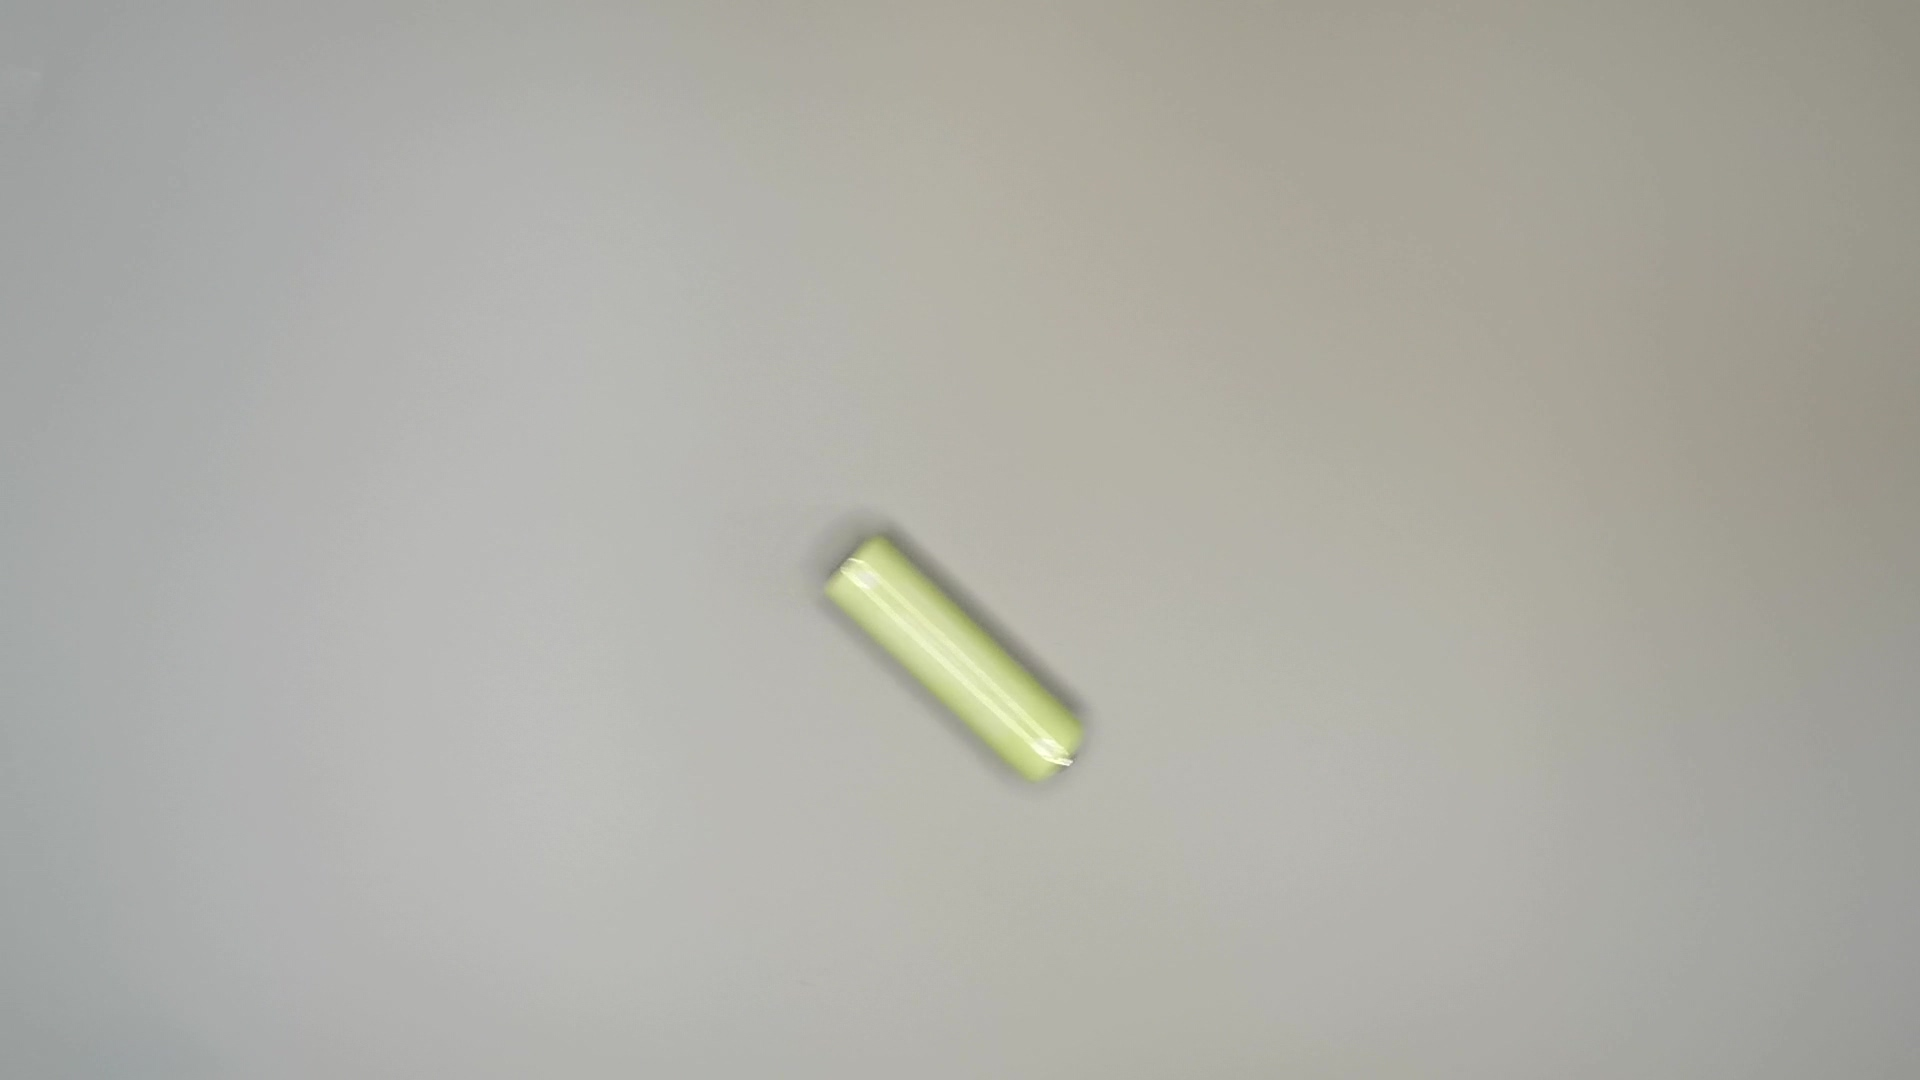battery: (818, 526, 1106, 795)
